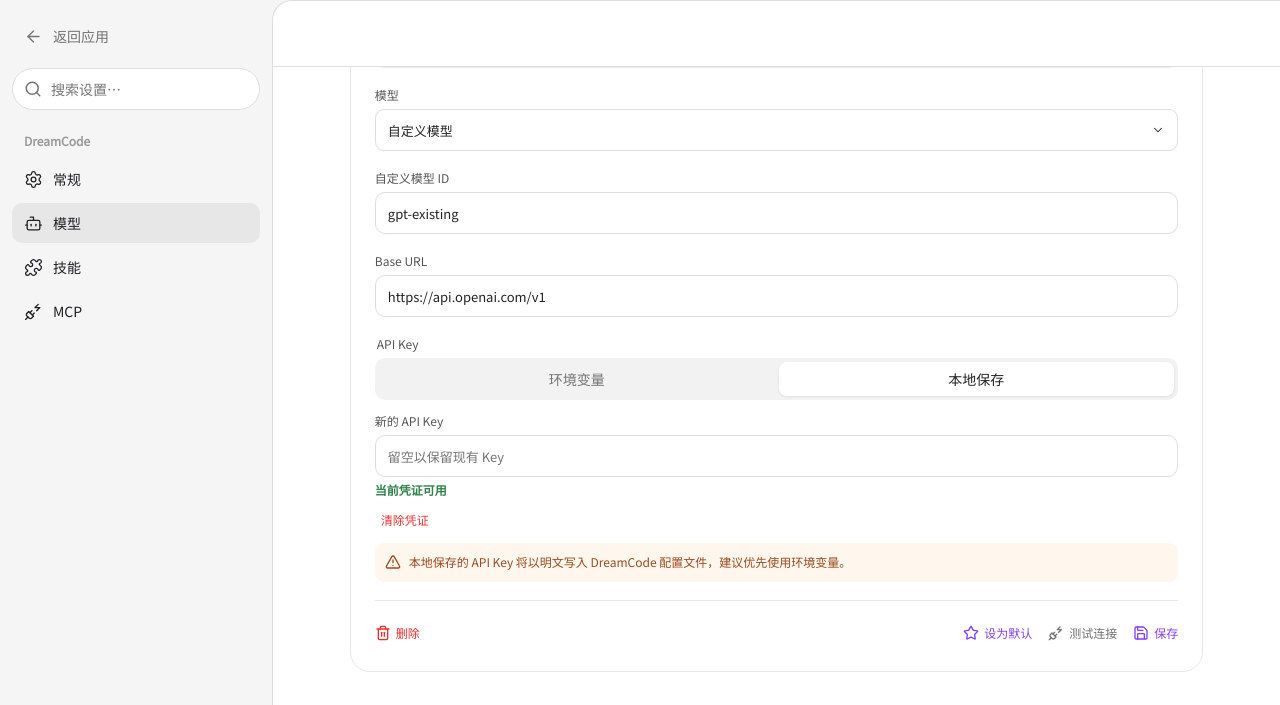
Test: ConfigDialog › keeps the editor open and reports a set-default failure
(page scrolled)
Click the button "设为默认". click: (998, 633)
box: 963,619 -> 1032,647
(page scrolled)
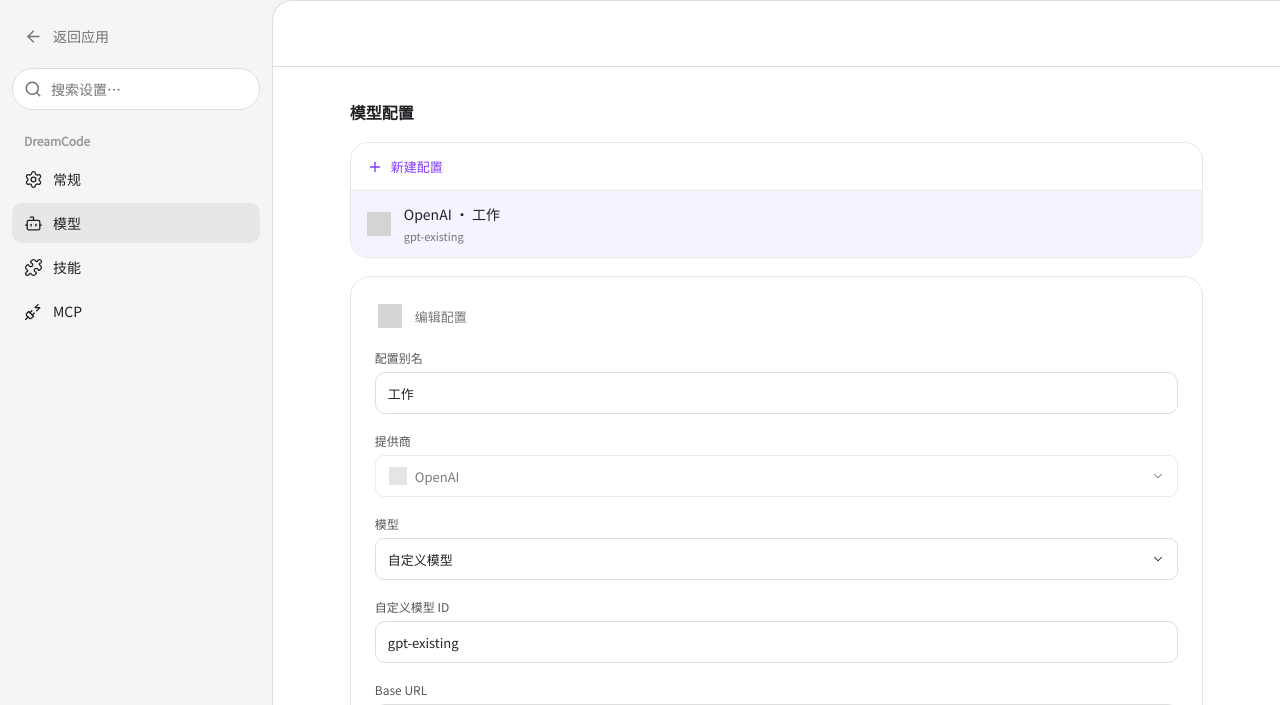
Check: the field labelled "配置别名" holds "工作", box 375,372 -> 1178,414
